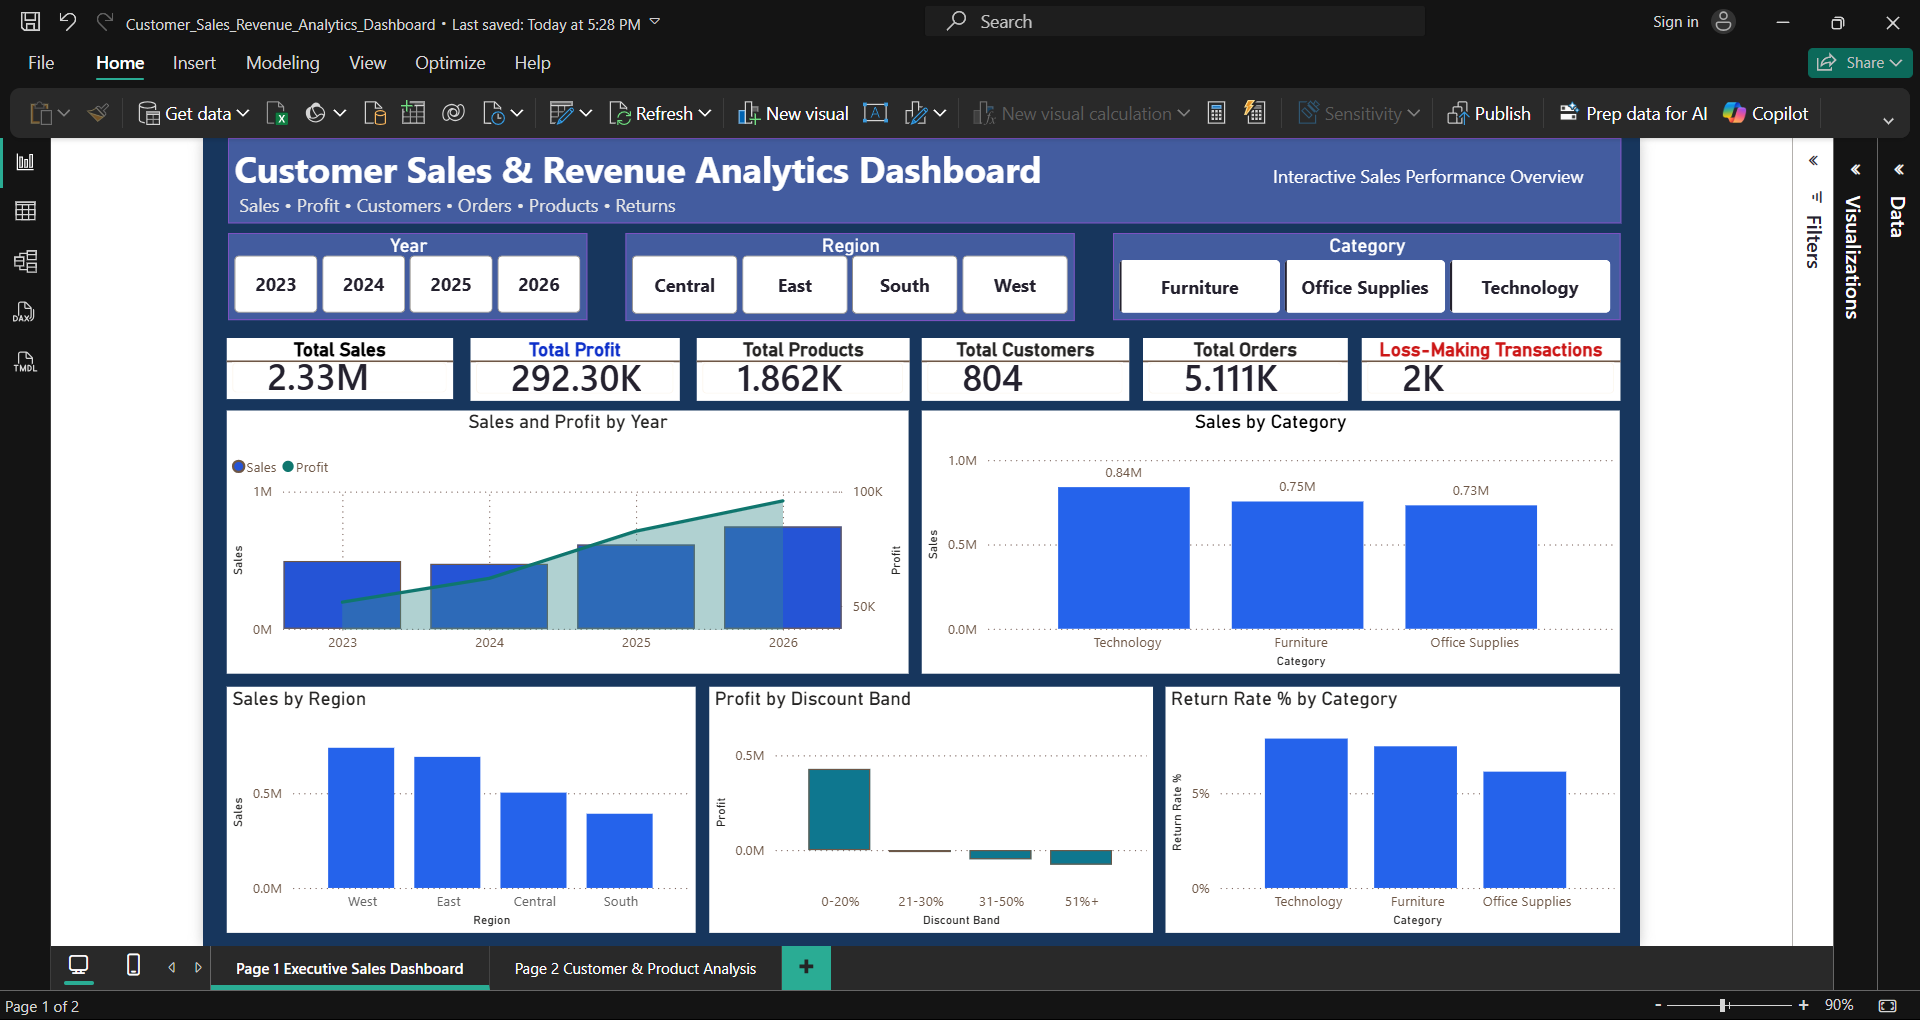

Layout of this report page (visuals, bound fields, positions):
{"tool":"powerbi","page":{"name":"Page 1 Executive Sales Dashboard","canvas":[1280,720],"ordinal":0},"visuals":[{"type":"clusteredColumnChart","title":"Sales by Category","fields":{"Category":["Customer_Sales_Revenue_Final.Category"],"Y":["Sum(Customer_Sales_Revenue_Final.Sales)"]},"box":[640.5,243,621.5,234.2],"z":0},{"type":"clusteredColumnChart","title":" Sales by Region","fields":{"Category":["Customer_Sales_Revenue_Final.Region"],"Y":["Sum(Customer_Sales_Revenue_Final.Sales)"]},"box":[21.5,488.6,417.7,219],"z":1000},{"type":"lineClusteredColumnComboChart","title":" Sales and Profit by Year","fields":{"Category":["Customer_Sales_Revenue_Final.Year"],"Y":["Sum(Customer_Sales_Revenue_Final.Sales)"],"Y2":["Sum(Customer_Sales_Revenue_Final.Profit)"]},"box":[21.5,243,607.6,234.2],"z":2000},{"type":"clusteredColumnChart","title":"Profit by Discount Band","fields":{"Category":["Customer_Sales_Revenue_Final.Discount Band"],"Y":["Sum(Customer_Sales_Revenue_Final.Profit)"]},"box":[450.6,488.6,394.9,219],"z":3000},{"type":"clusteredColumnChart","fields":{"Category":["Customer_Sales_Revenue_Final.Category"],"Y":["Customer_Sales_Revenue_Final.Return Rate %"]},"box":[857,488.6,405.1,219],"z":4000},{"type":"advancedSlicerVisual","fields":{"Values":["Customer_Sales_Revenue_Final.Year"]},"box":[22.1,84.7,320.2,77.3],"z":5000},{"type":"textbox","box":[22.1,0,1240.5,76.1],"z":6000},{"type":"advancedSlicerVisual","fields":{"Values":["Customer_Sales_Revenue_Final.Region"]},"box":[375.9,84.8,400,78.5],"z":7000},{"type":"advancedSlicerVisual","fields":{"Values":["Customer_Sales_Revenue_Final.Category"]},"box":[810.1,84.8,451.9,77.2],"z":8000},{"type":"cardVisual","title":"Total Customers","fields":{"Data":["Count(Customer_Sales_Revenue_Final.Customer ID)"]},"box":[640.5,178.5,184.8,55.7],"z":9000},{"type":"cardVisual","title":"Total Products","fields":{"Data":["Count(Customer_Sales_Revenue_Final.Product ID)"]},"box":[439.2,178.5,189.9,55.7],"z":10000},{"type":"cardVisual","title":"Total Profit ","fields":{"Data":["Sum(Customer_Sales_Revenue_Final.Profit)"]},"box":[238,178.5,186.1,55.7],"z":11000},{"type":"cardVisual","title":"Total Sales","fields":{"Data":["Sum(Customer_Sales_Revenue_Final.Sales)"]},"box":[21.5,178.5,201.3,54.4],"z":12000},{"type":"cardVisual","title":"Loss-Making Transactions","fields":{"Data":["Customer_Sales_Revenue_Final.Loss-Making Transactions"]},"box":[1031.6,178.5,230.4,55.7],"z":13000},{"type":"cardVisual","title":"Total Orders ","fields":{"Data":["Count(Customer_Sales_Revenue_Final.Order ID)"]},"box":[836.7,178.5,182.3,55.7],"z":14000}]}

Visuals, with their boxes on the page's 1280x720 design canvas (x1, y1, x2, y2). These are canvas units, not pixel positions in the 1920x1020 screenshot, which may show the page scaled, cropped or inside an application window:
"Sales by Category" clusteredColumnChart: <box>640,243,1262,477</box>
" Sales by Region" clusteredColumnChart: <box>22,489,439,708</box>
" Sales and Profit by Year" lineClusteredColumnComboChart: <box>22,243,629,477</box>
"Profit by Discount Band" clusteredColumnChart: <box>451,489,846,708</box>
clusteredColumnChart - Customer_Sales_Revenue_Final.Category x Customer_Sales_Revenue_Final.Return Rate %: <box>857,489,1262,708</box>
advancedSlicerVisual - Customer_Sales_Revenue_Final.Year: <box>22,85,342,162</box>
textbox: <box>22,0,1263,76</box>
advancedSlicerVisual - Customer_Sales_Revenue_Final.Region: <box>376,85,776,163</box>
advancedSlicerVisual - Customer_Sales_Revenue_Final.Category: <box>810,85,1262,162</box>
"Total Customers" cardVisual: <box>640,178,825,234</box>
"Total Products" cardVisual: <box>439,178,629,234</box>
"Total Profit " cardVisual: <box>238,178,424,234</box>
"Total Sales" cardVisual: <box>22,178,223,233</box>
"Loss-Making Transactions" cardVisual: <box>1032,178,1262,234</box>
"Total Orders " cardVisual: <box>837,178,1019,234</box>
